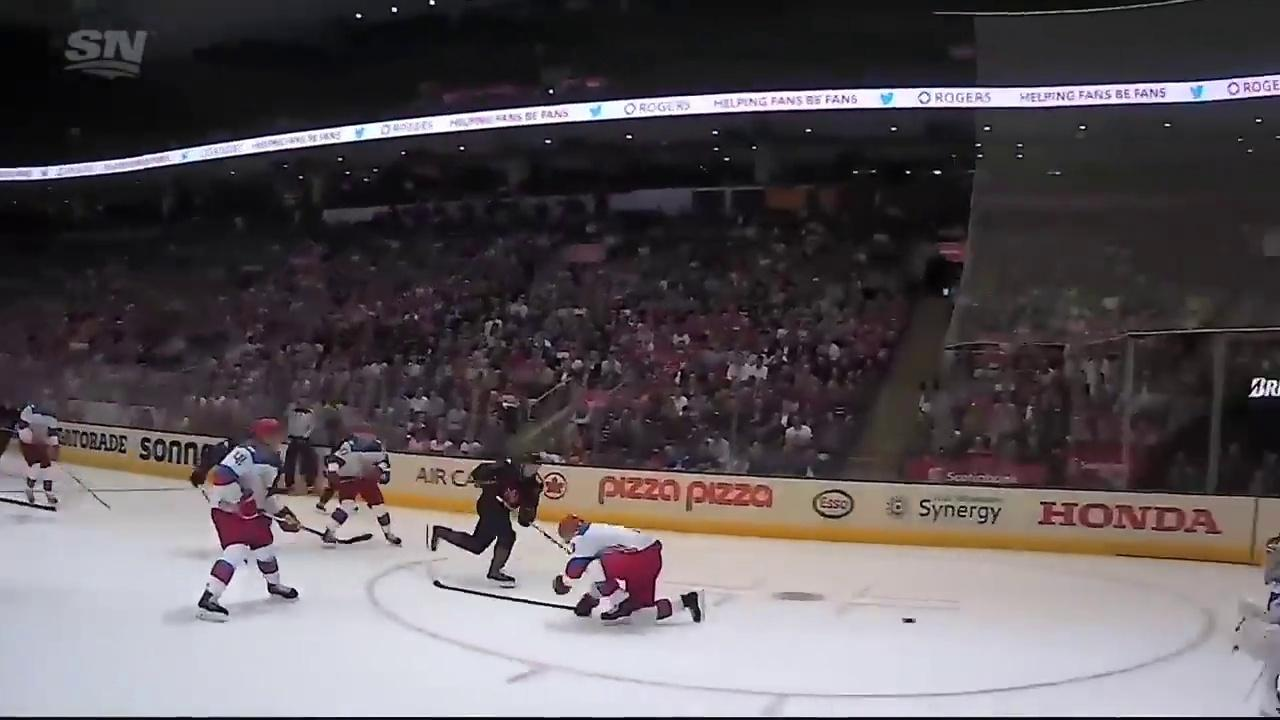ball: (902, 617, 916, 624)
